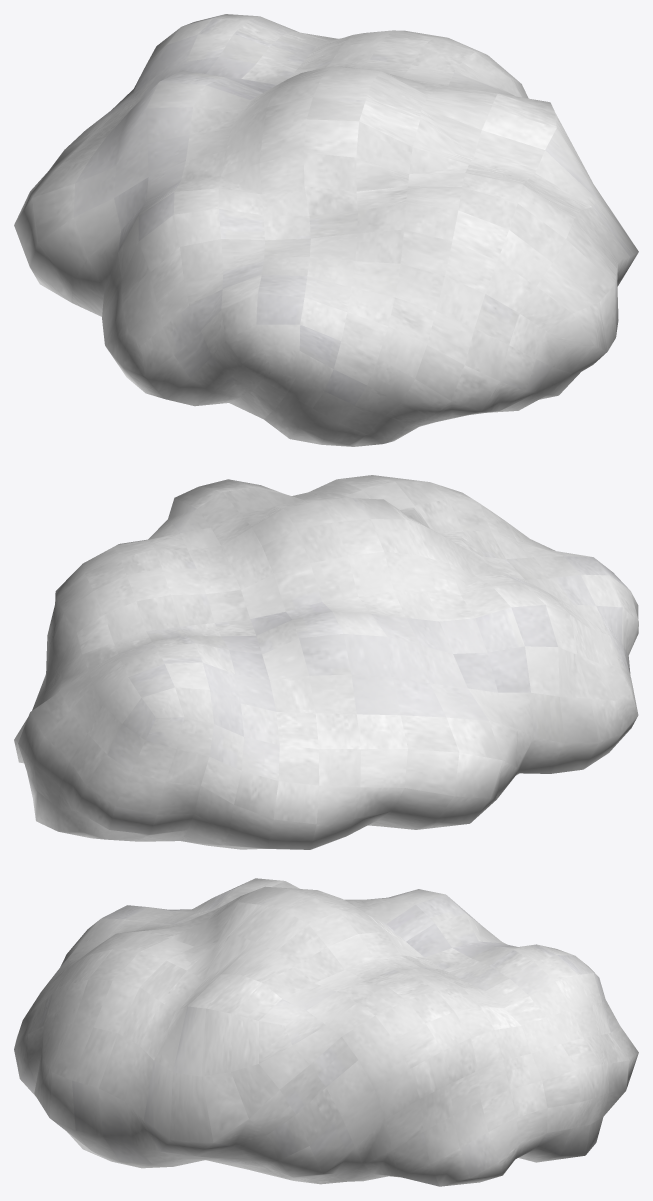
File: MayTron.fbx
3 views of the same model, one above another, from view 1: azimuth 30°, elevation 25°; view 2: azimuth 150°, elevation 25°; view 3: azimuth 270°, elevation 25° (orthographic). The views are drawn at different scales.
Visible parts, largest first — view 1: MayTron; view 2: MayTron; view 3: MayTron.
Boxes of the visible parts, box(x1,y1,x2,y2) form: MayTron: box(14, 14, 638, 446); MayTron: box(14, 475, 638, 849); MayTron: box(14, 878, 638, 1186).
Bounding box in the file's own units: 12.89 × 16.51 × 6.59.
1 material, 1 textured.
